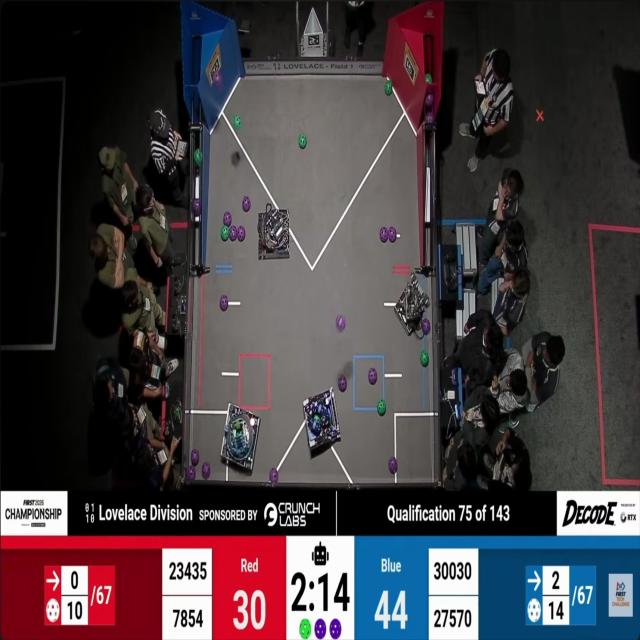artifact_green: (310, 414, 321, 435), (300, 619, 311, 639), (377, 400, 386, 416), (420, 351, 428, 366), (221, 226, 229, 241), (299, 134, 307, 149), (385, 80, 392, 95), (194, 150, 201, 165), (234, 115, 241, 129), (424, 73, 432, 84), (313, 414, 320, 424)
artifact_purple: (315, 619, 326, 639), (330, 619, 341, 639), (368, 367, 378, 385), (387, 227, 397, 243), (336, 315, 345, 332), (242, 196, 251, 213), (338, 375, 347, 392), (223, 211, 232, 227), (191, 449, 199, 466), (192, 198, 200, 215), (422, 318, 430, 335), (389, 457, 397, 474), (187, 466, 196, 481), (202, 463, 210, 479), (220, 295, 228, 311), (214, 72, 222, 88), (270, 468, 278, 484), (380, 227, 388, 242), (230, 225, 237, 241), (426, 92, 434, 106), (238, 226, 245, 242), (426, 112, 434, 124)
